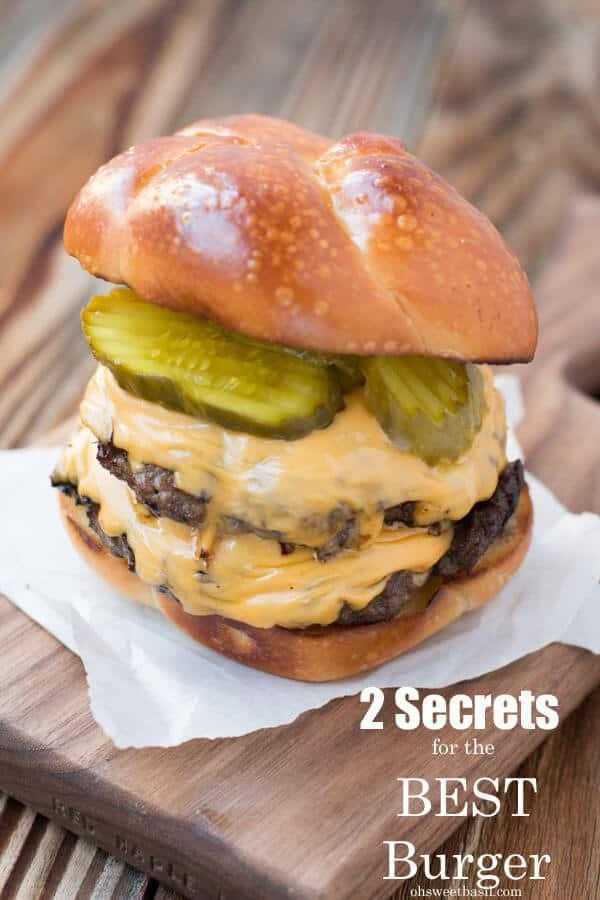hamburger: (29, 96, 545, 694)
